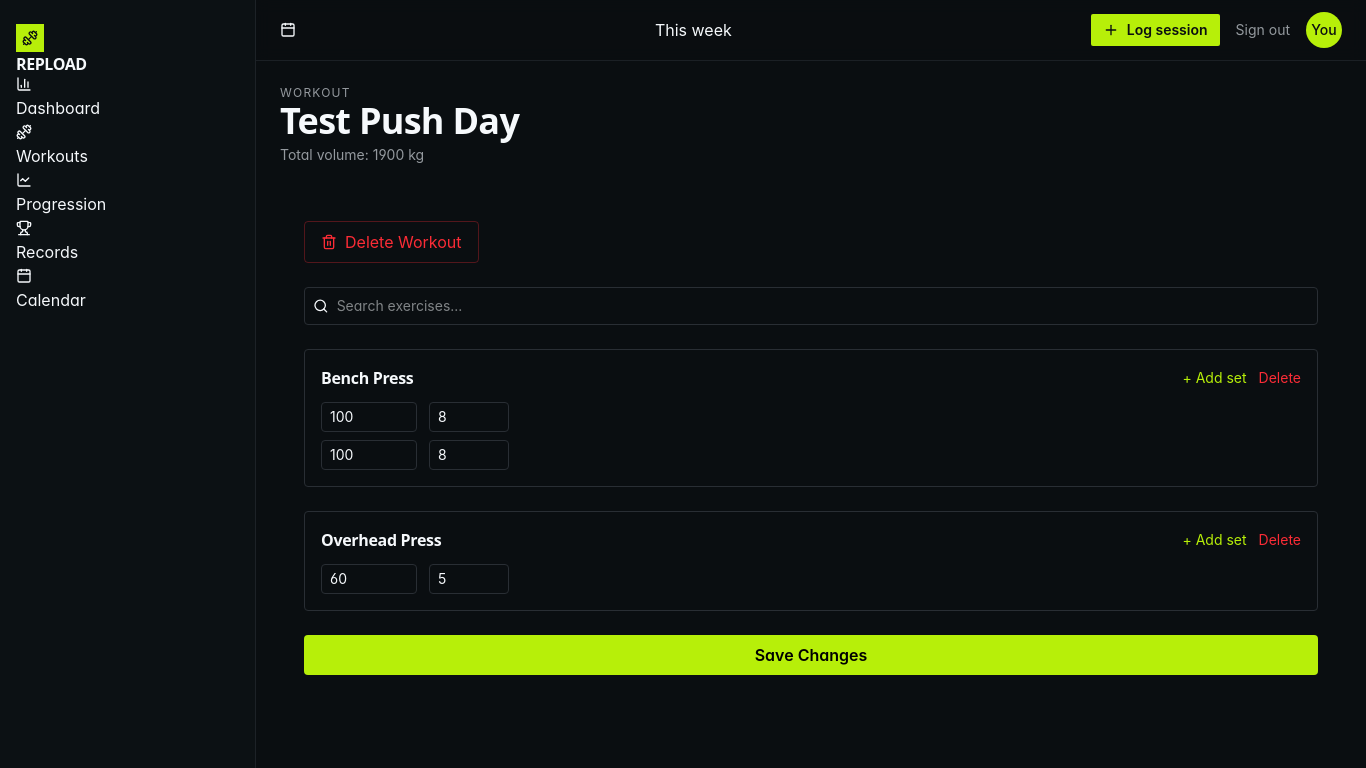
Scenario: WorkoutPage (workouts/$id) › allows deleting an exercise
Click the button "Delete" in the row of "Overhead Press".
click(1280, 540)  # box [1259, 528, 1301, 552]
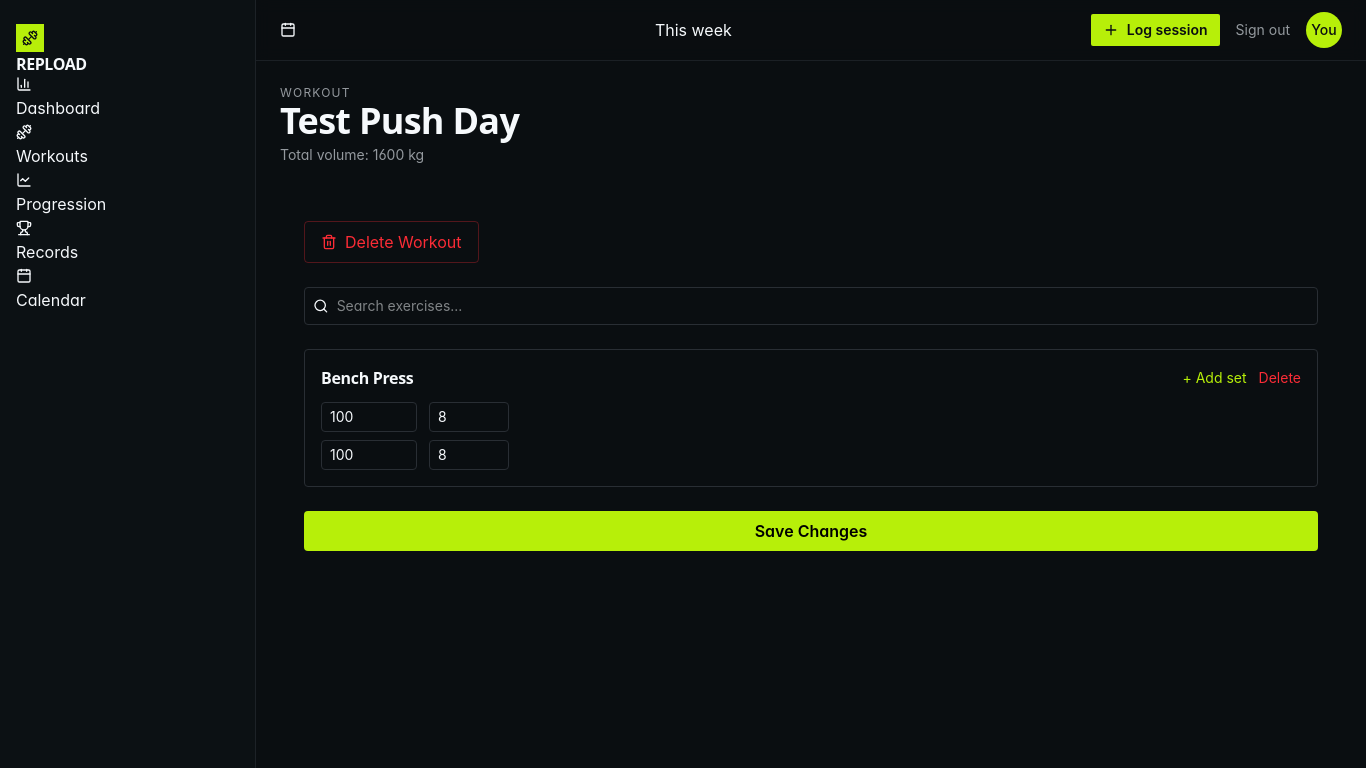
Result: the heading "Overhead Press" is gone
